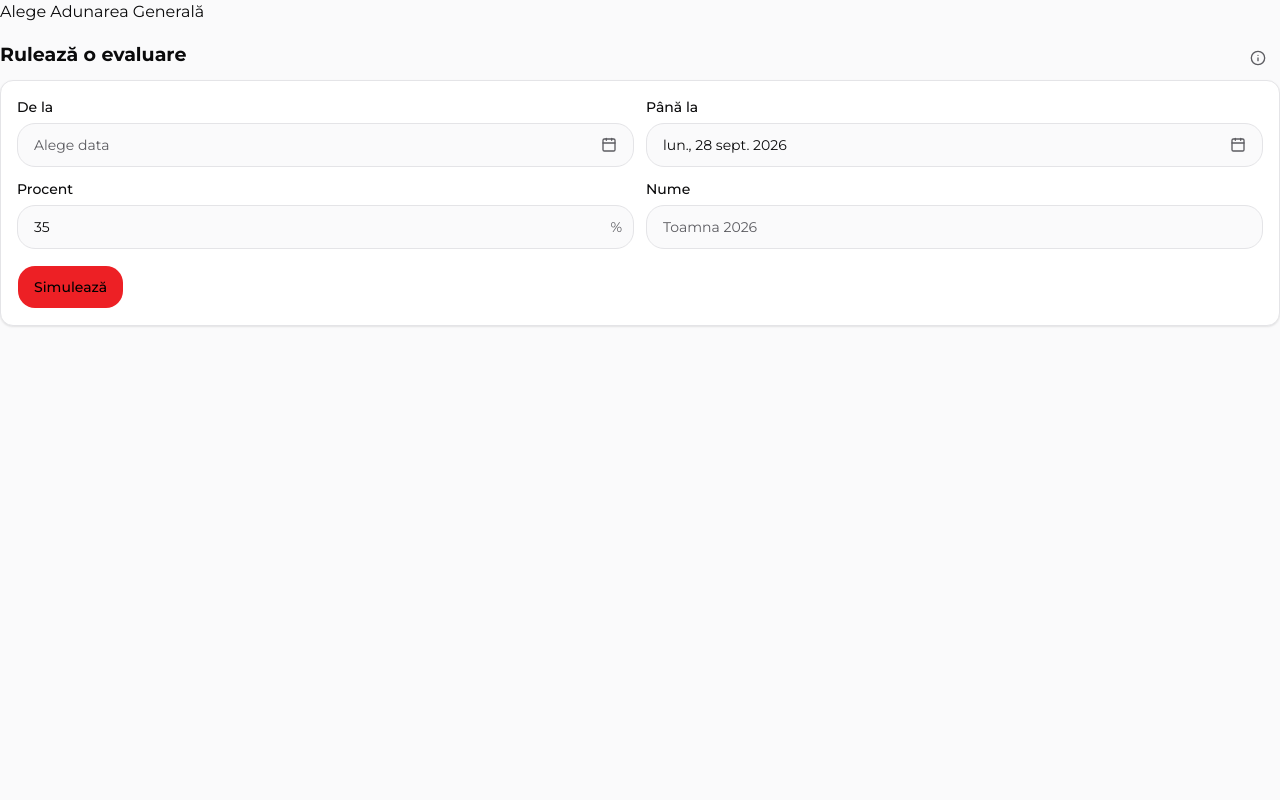
shows a server refusal on a setting (invalid_eligibility_floor) as the form’s error, with the way to Setări
Expected: the number field labelled "Procent" is empty, [17,205,634,249]
Click the button named "De la" at (72, 145), box [17,123,634,167]
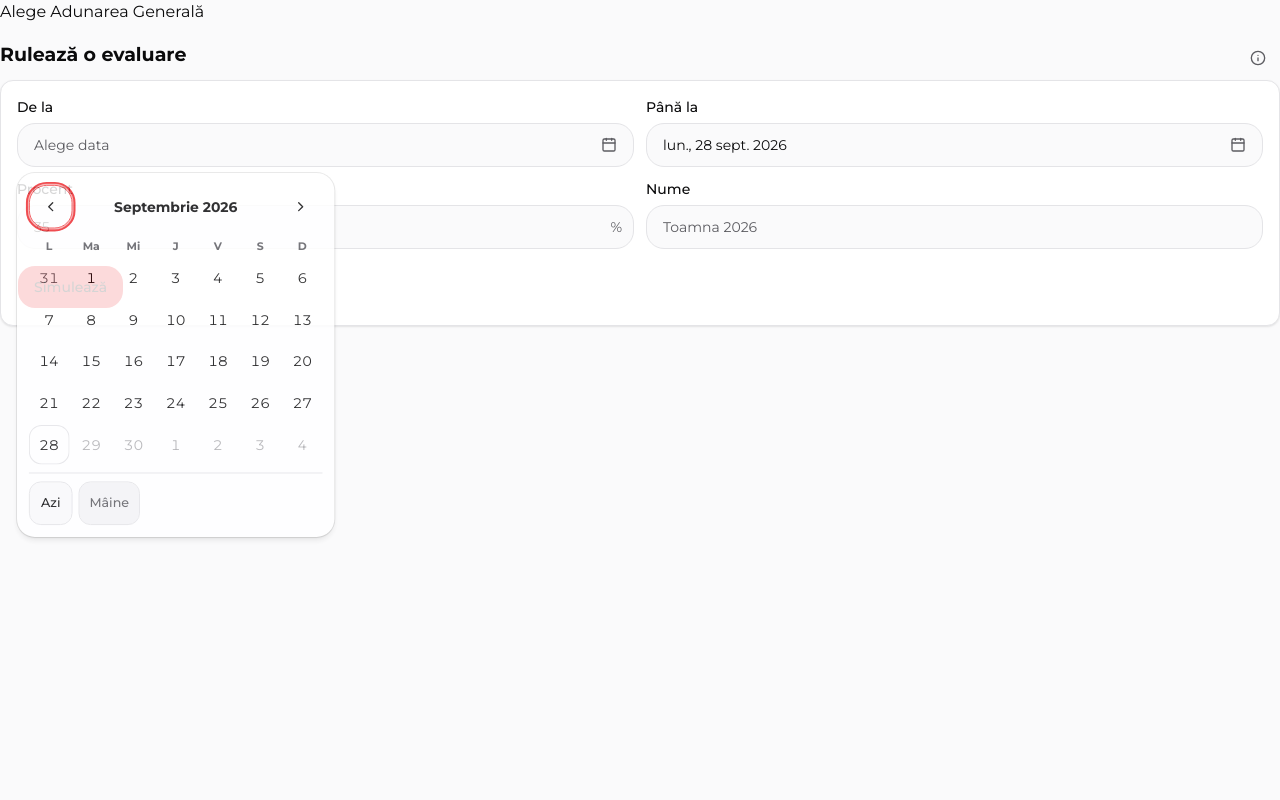
Click the 1st button "1" at (92, 279), box [72,259,112,299]
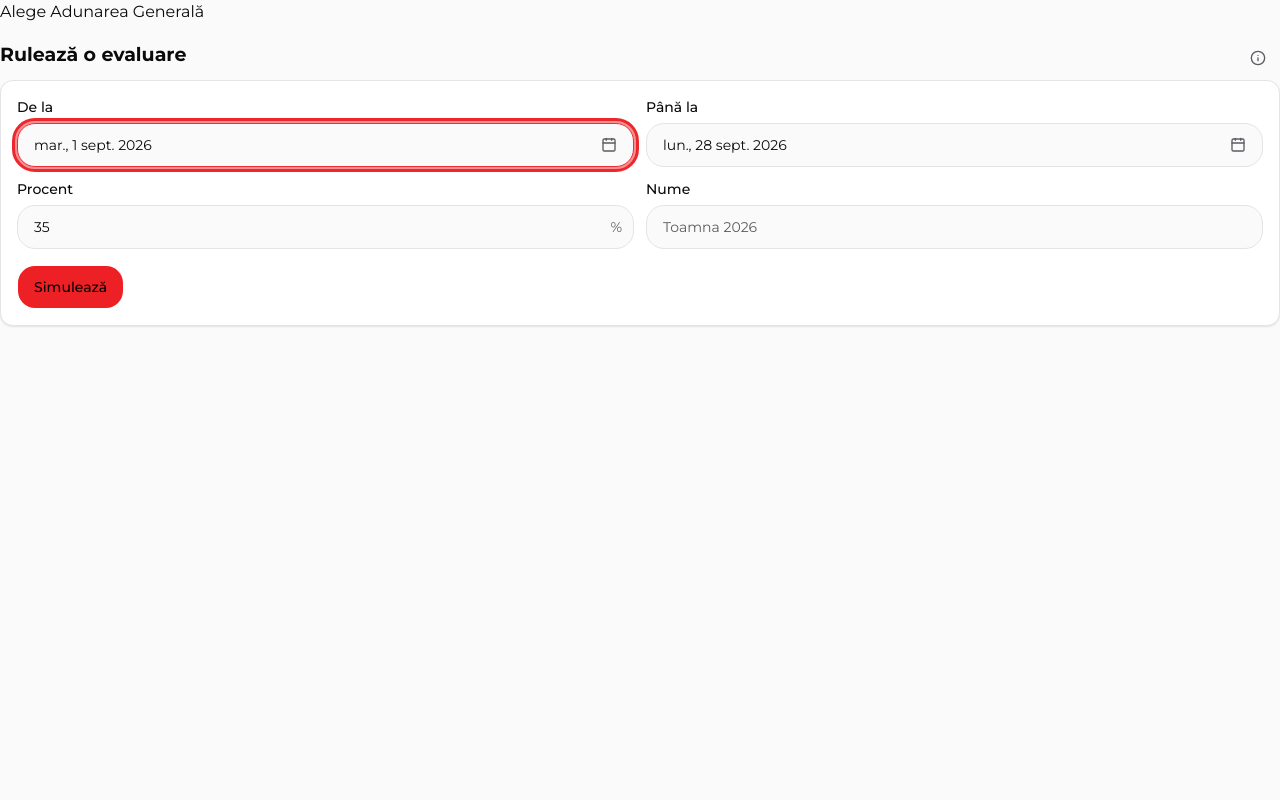
Click the button "Simulează" at (71, 287), box [17,265,124,309]
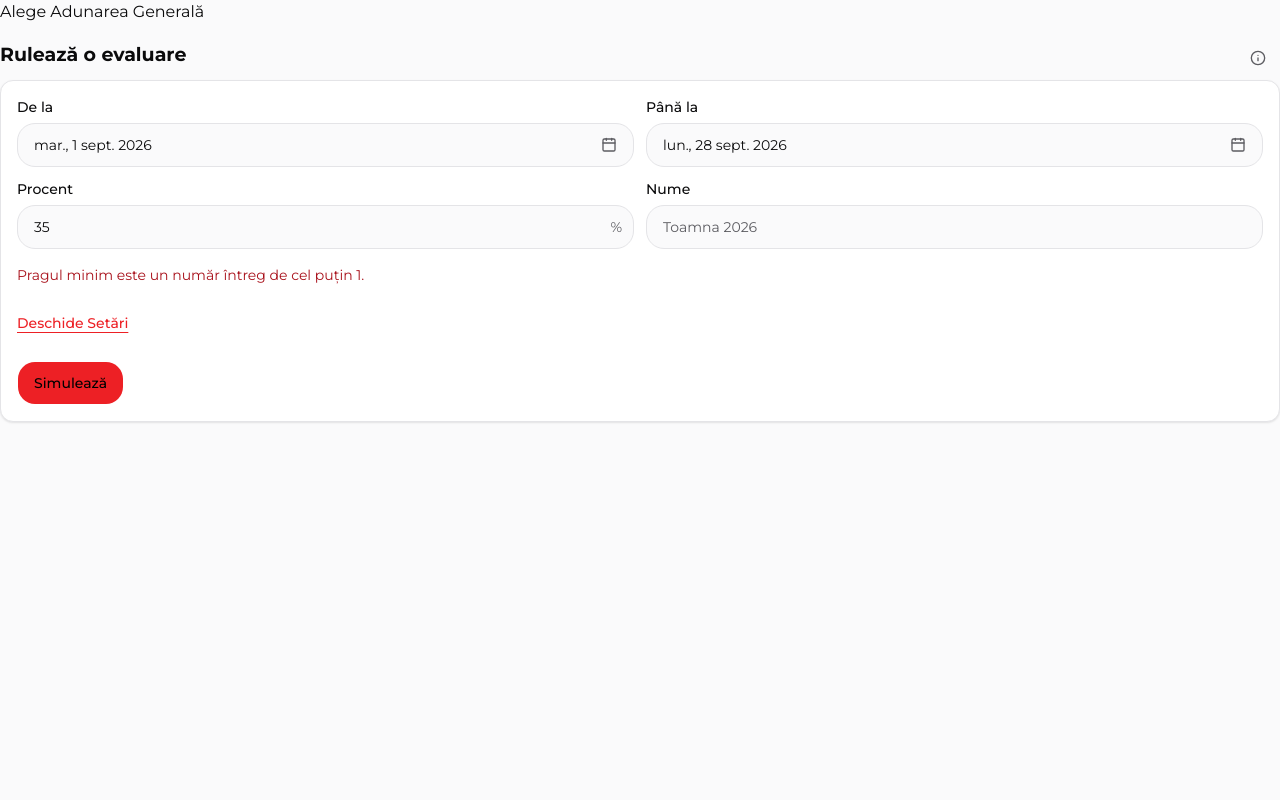
Expected: the button "Finalizează" is not shown
Expected: the text "Pragul minim este un număr întreg de cel puțin 1." is shown, [17,266,364,284]
Click the button "Simulează" at (71, 383), box [17,361,124,405]
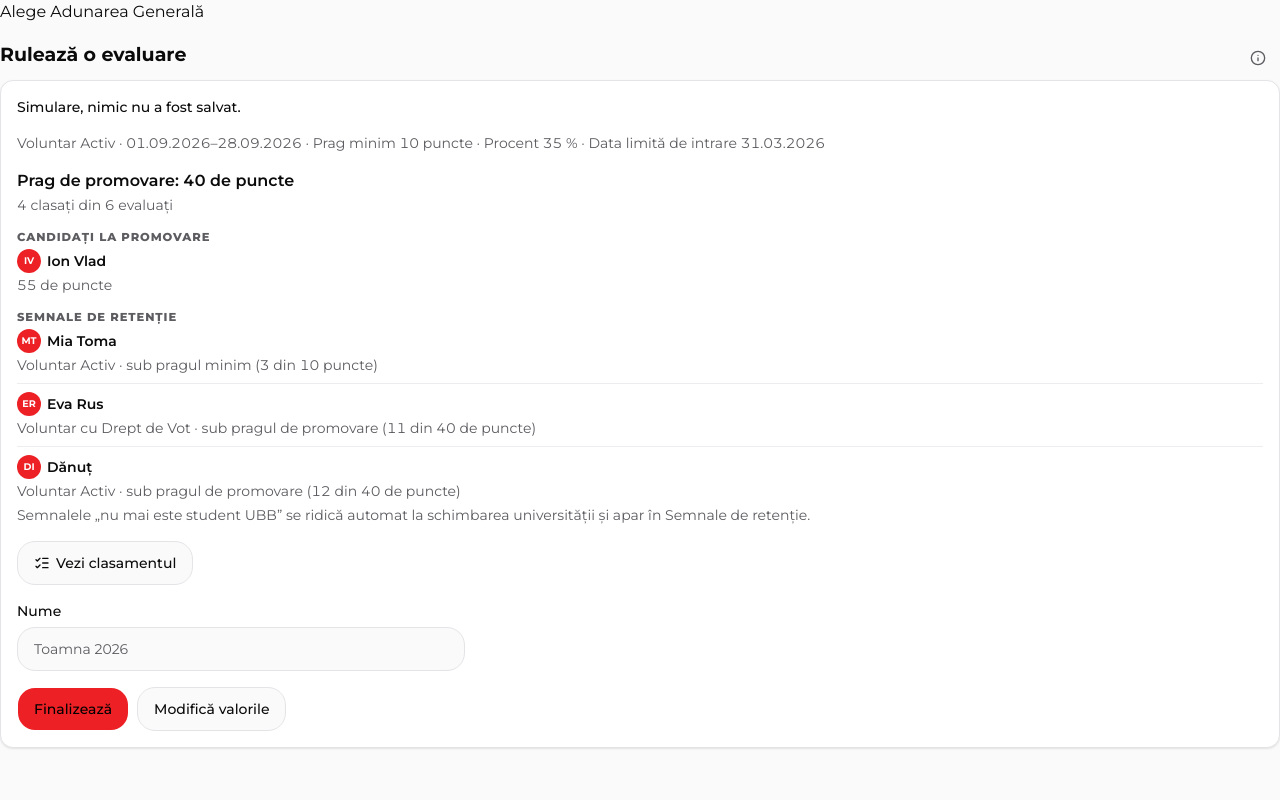
Expected: the button "Finalizează" is shown, [17,687,129,731]
Expected: the text "Pragul minim este un număr întreg de cel puțin 1." is gone
Expected: the link "Deschide Setări" is gone
